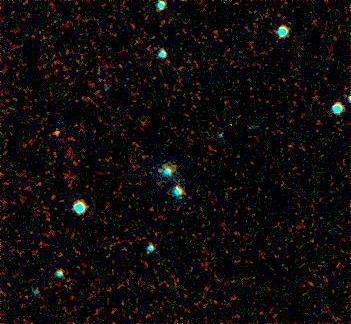star: (42, 117, 72, 147)
